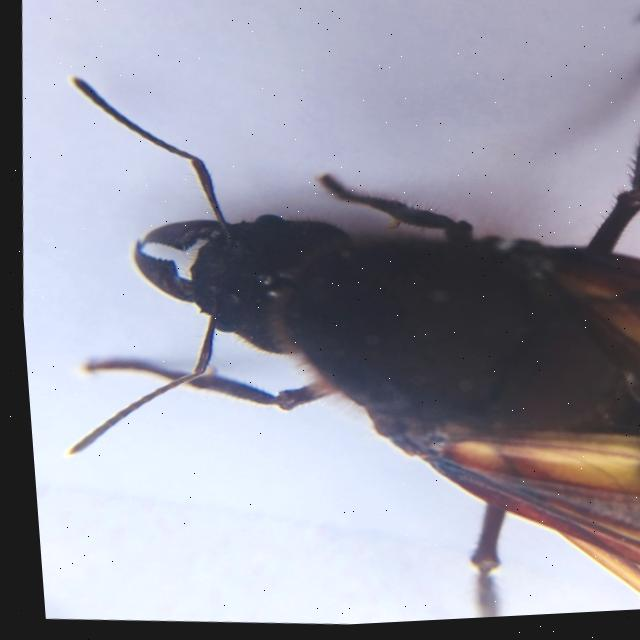Alive-Female-Alate: (18, 0, 640, 639)
